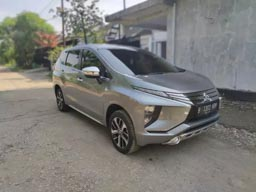plat: (196, 100, 219, 117)
